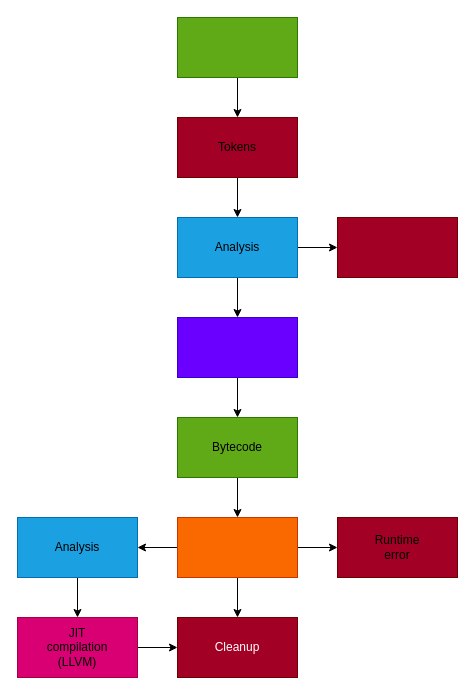
This 475x695 diagram has some shape labels left out. Each missing label, with the centre of its shape:
"AST" belongs at (237,347).
"Execution" belongs at (237,547).
"Source code" belongs at (237,47).
"Syntax error" belongs at (397,247).
